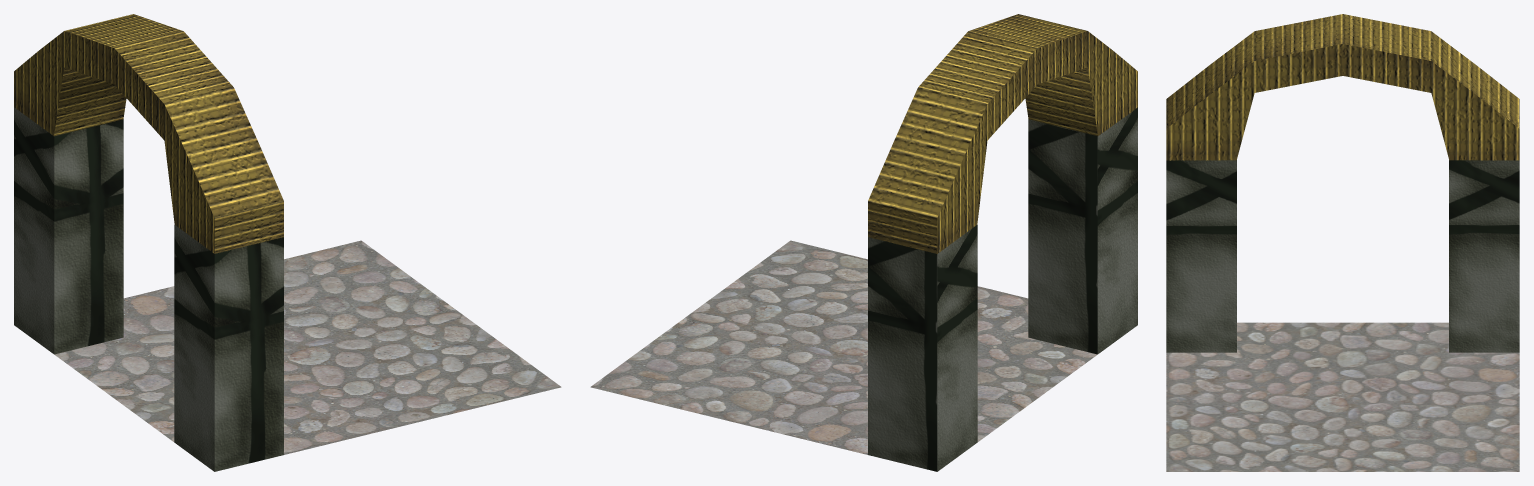
The model's file is 3-5_Teleporter_v2.fbx.
3 views of the same model, side by side, from view 1: azimuth 30°, elevation 25°; view 2: azimuth 150°, elevation 25°; view 3: azimuth 270°, elevation 25° (orthographic). The views are drawn at different scales.
Visible parts, largest first — view 1: Teleporter_v2; view 2: Teleporter_v2; view 3: Teleporter_v2.
Boxes of the visible parts, left/top/right/bottom form: Teleporter_v2: left=14, top=14, right=561, bottom=471; Teleporter_v2: left=590, top=14, right=1137, bottom=471; Teleporter_v2: left=1166, top=14, right=1519, bottom=471.
Size of the model in its own units: 100 by 96.41 by 100.
Materials: 2 (2 with a texture image).
